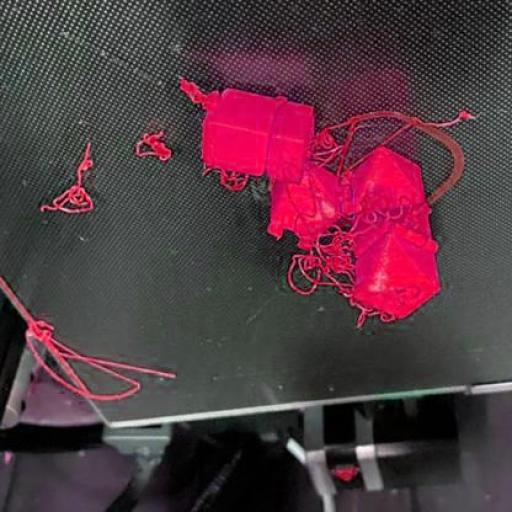spaghetti: (288, 198, 436, 329), (24, 320, 174, 400), (37, 142, 98, 217), (130, 124, 178, 171), (427, 99, 476, 137), (308, 130, 344, 175)
